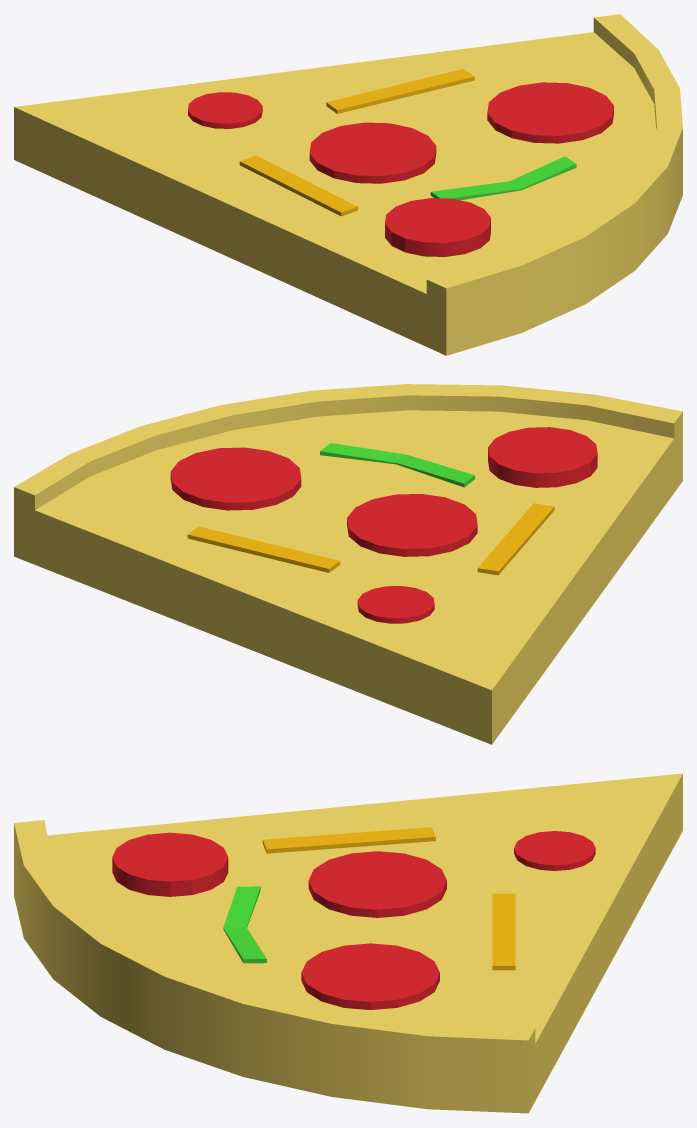
Rendered from pizza.fbx.
The picture shows the model from 3 angles, top to bottom: view 1: azimuth 30°, elevation 25°; view 2: azimuth 150°, elevation 25°; view 3: azimuth 270°, elevation 25°; orthographic projection. The views are drawn at different scales.
Visible parts, largest first — view 1: #pizza; view 2: #pizza; view 3: #pizza.
Boxes of the visible parts, left/top/right/bottom form: #pizza: left=14, top=14, right=682, bottom=355; #pizza: left=14, top=384, right=682, bottom=744; #pizza: left=14, top=773, right=682, bottom=1113.
Size of the model in its own units: 130 by 15.66 by 130.
4 materials, 1 textured.
